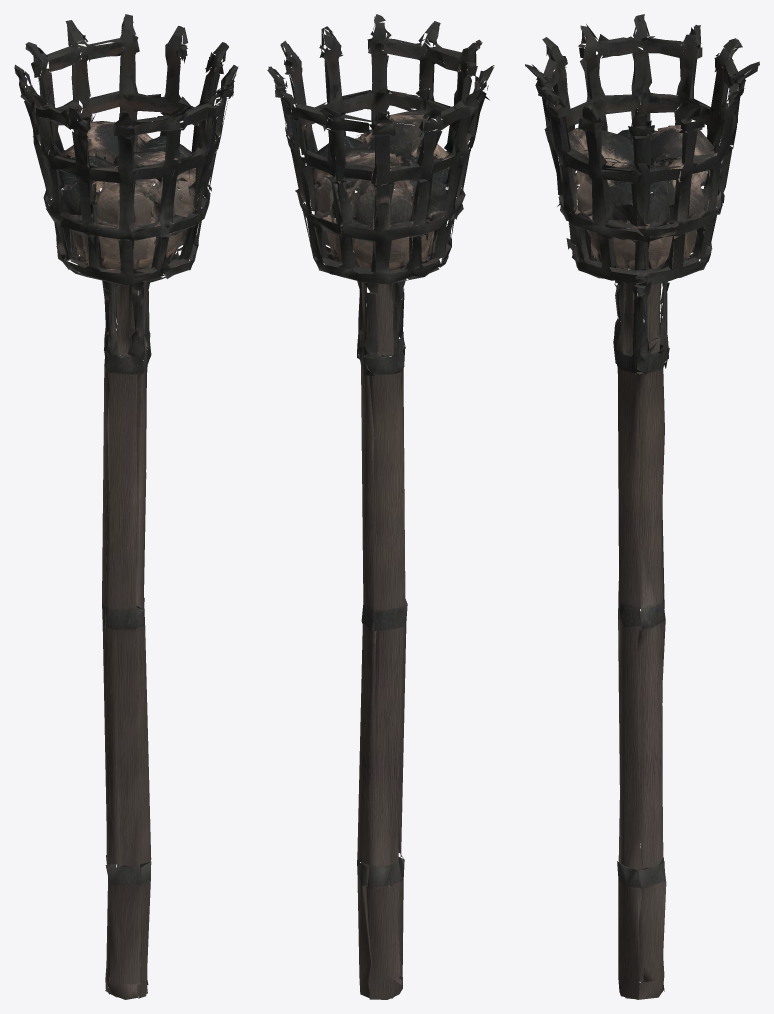
Rendered from protest-torch.glb.
3 views of the same model, side by side, from view 1: azimuth 30°, elevation 25°; view 2: azimuth 150°, elevation 25°; view 3: azimuth 270°, elevation 25° (orthographic).
Visible parts, largest first — view 1: protest-torch_mesh; view 2: protest-torch_mesh; view 3: protest-torch_mesh.
Part boxes in pixels (left/top/right/bottom): protest-torch_mesh: left=14, top=14, right=238, bottom=999; protest-torch_mesh: left=267, top=14, right=494, bottom=999; protest-torch_mesh: left=525, top=14, right=759, bottom=999.
Size of the model in its own units: 0.4349 by 1.9 by 0.4388.
Materials: 1 (1 with a texture image).
